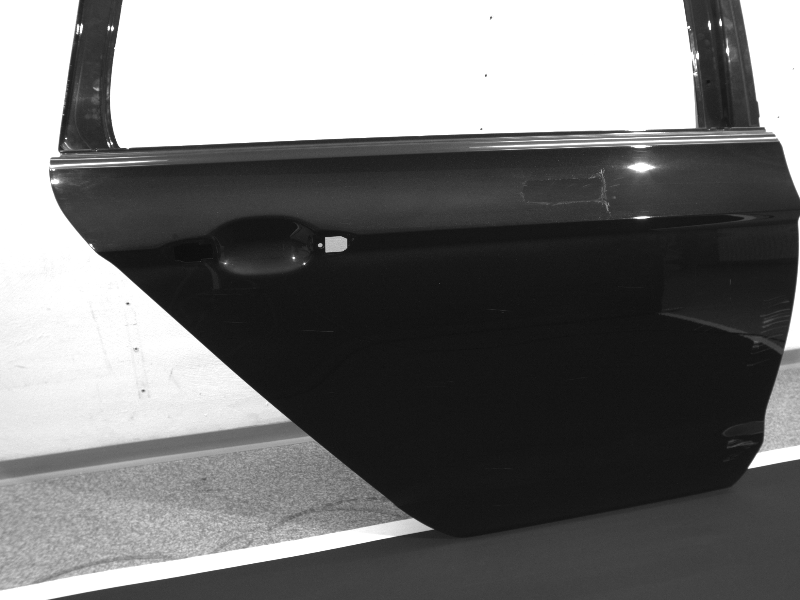scratch: (746, 295, 792, 369), (723, 437, 760, 463), (302, 328, 337, 334), (567, 374, 590, 382), (616, 284, 646, 289), (486, 466, 514, 471), (661, 305, 683, 311), (486, 307, 509, 312), (226, 321, 246, 324), (727, 278, 733, 286)
